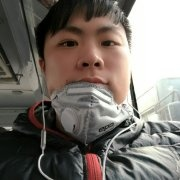Mask: (45, 24, 134, 112)
